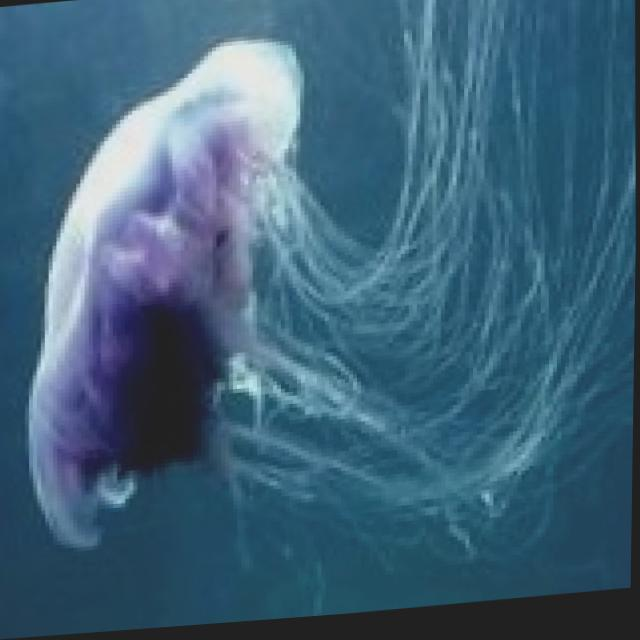Jellyfish: (0, 0, 640, 629)
